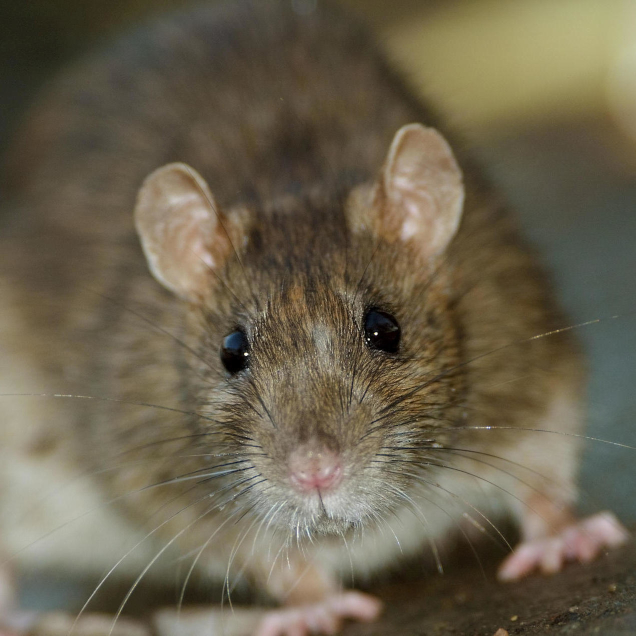rat: (102, 116, 548, 593)
